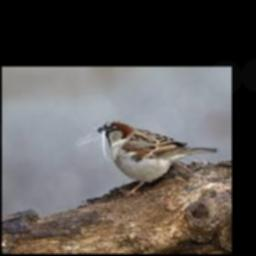Sparrow: (97, 119, 218, 195)
